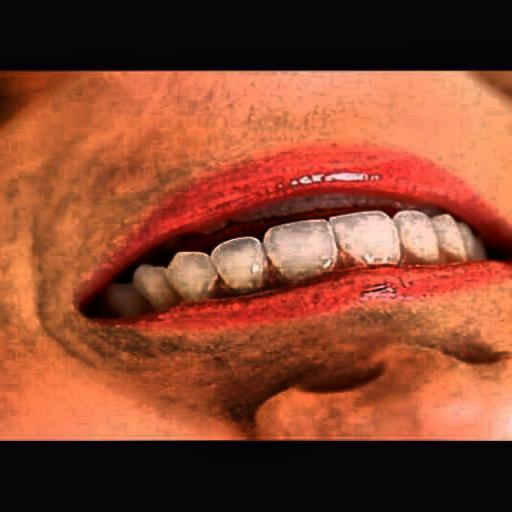Healthy: (92, 142, 484, 368)
